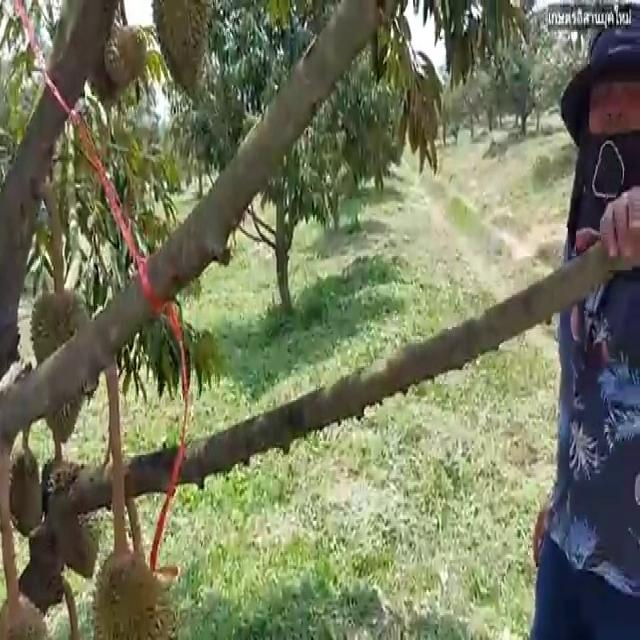durian: (27, 285, 98, 449), (91, 540, 184, 638), (38, 447, 103, 582), (150, 0, 217, 101), (5, 442, 46, 534), (0, 588, 54, 638), (113, 20, 151, 86)
